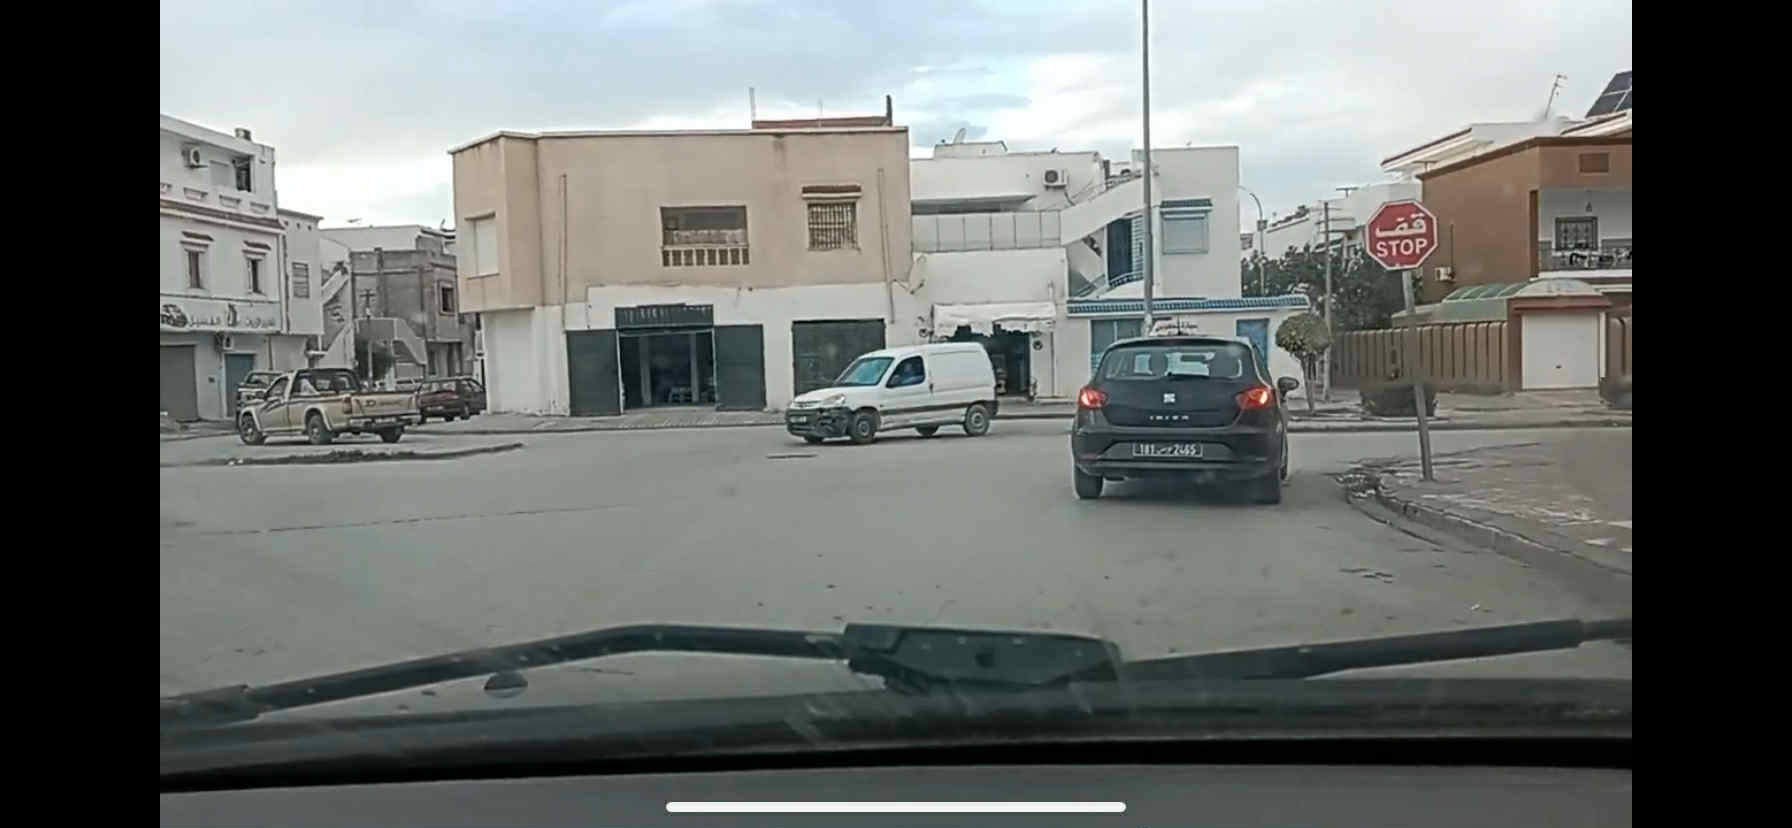Stop: (1362, 198, 1439, 271)
